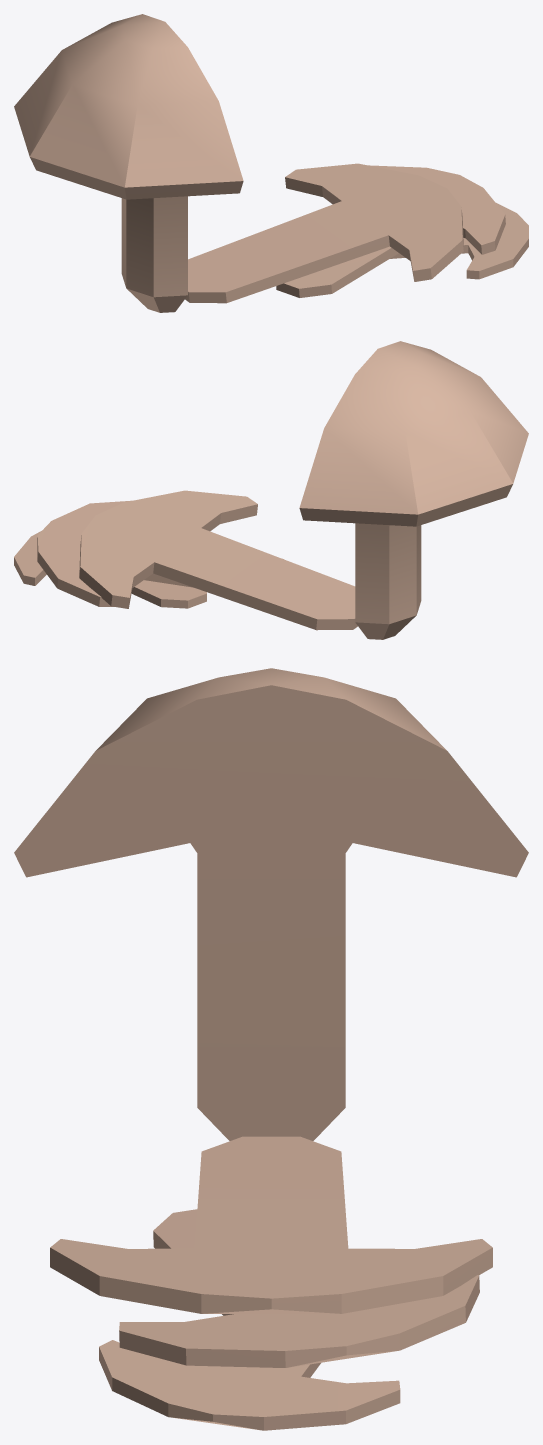
The model's file is mushroom-sliced.glb.
3 renders of one model, top to bottom at view 1: azimuth 30°, elevation 25°; view 2: azimuth 150°, elevation 25°; view 3: azimuth 270°, elevation 25°, orthographic. The views are drawn at different scales.
Parts seen in each view (by area): view 1: MushroomSliced.001; view 2: MushroomSliced.001; view 3: MushroomSliced.001.
Part boxes in pixels (x1,y1,x2,y2): MushroomSliced.001: (14, 14, 528, 312); MushroomSliced.001: (14, 341, 528, 639); MushroomSliced.001: (14, 668, 528, 1430).
Size of the model in its own units: 0.2792 by 0.1558 by 0.1562.
Materials: 1 (1 with a texture image).
